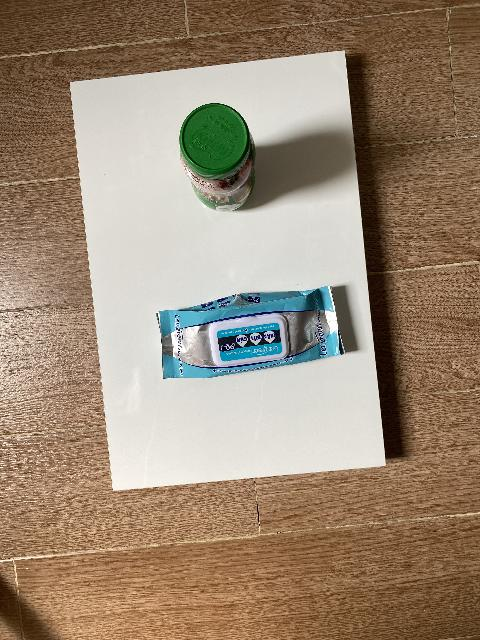Let-green_alcohol_wipes: (154, 286, 345, 379)
milo: (179, 103, 256, 212)
